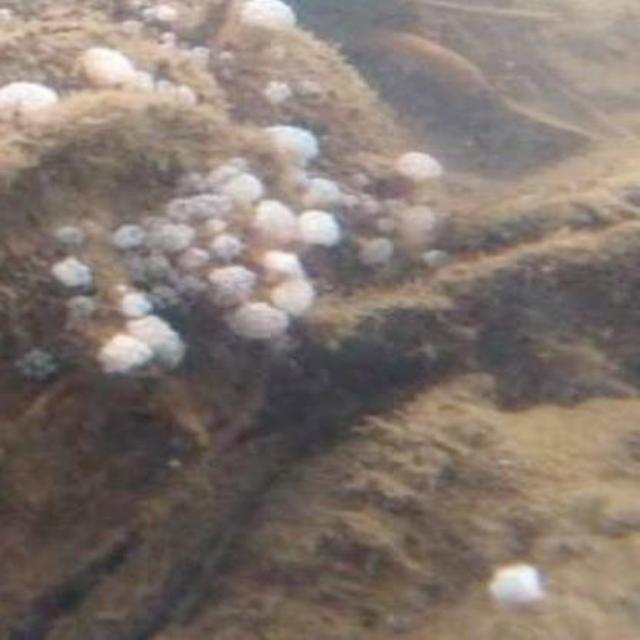Oyster-Closed: (0, 0, 459, 558), (170, 384, 638, 638), (0, 93, 346, 391)
Oyster-Open: (0, 388, 327, 638), (290, 181, 638, 348)
